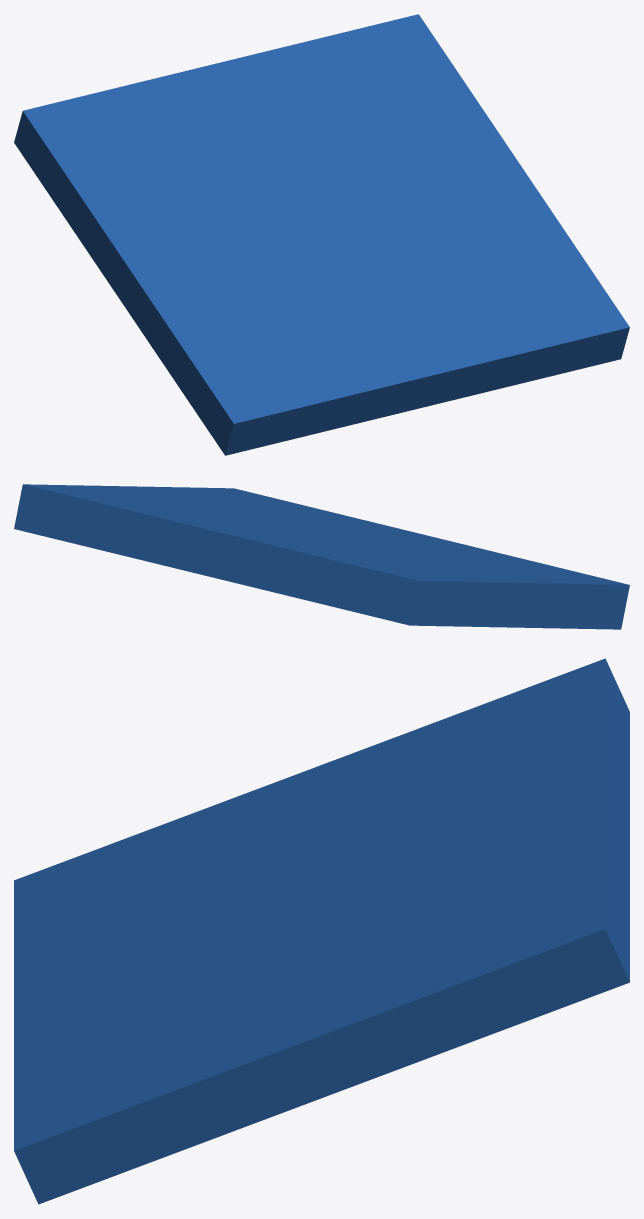
File: Ceiling_67.5.fbx
3 views of the same model, one above another, from view 1: azimuth 30°, elevation 25°; view 2: azimuth 150°, elevation 25°; view 3: azimuth 270°, elevation 25° (orthographic). The views are drawn at different scales.
Visible parts, largest first — view 1: Ceiling_67.5; view 2: Ceiling_67.5; view 3: Ceiling_67.5.
Boxes of the visible parts, x1,y1,x2,y2 form: Ceiling_67.5: [14, 14, 629, 455]; Ceiling_67.5: [14, 484, 629, 629]; Ceiling_67.5: [14, 658, 629, 1204].
Size of the model in its own units: 100 by 47.51 by 96.21.
